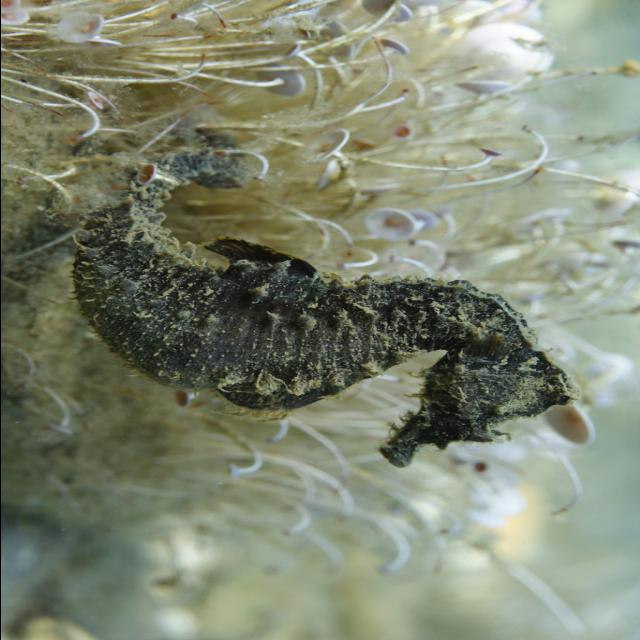Hippo: (372, 339, 584, 474)
